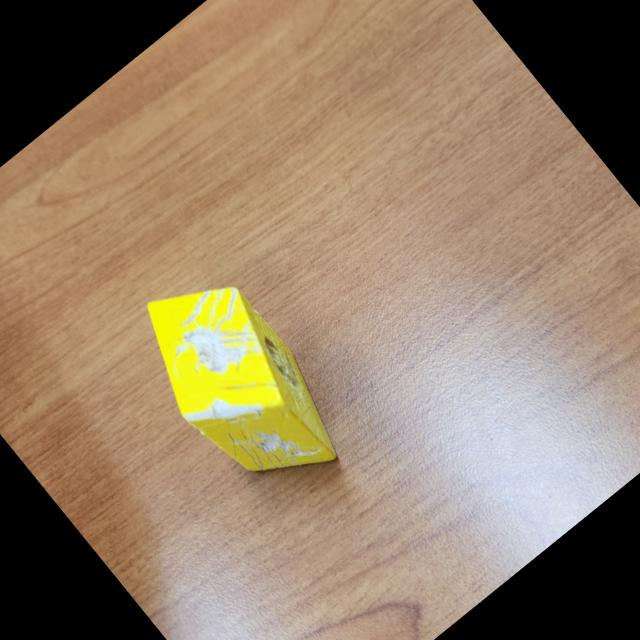broken: (112, 251, 364, 518)
